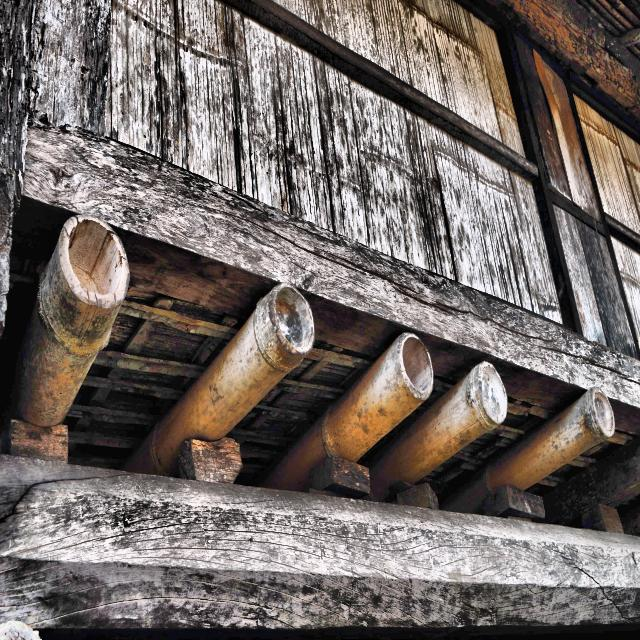wall: (1, 1, 638, 404)
